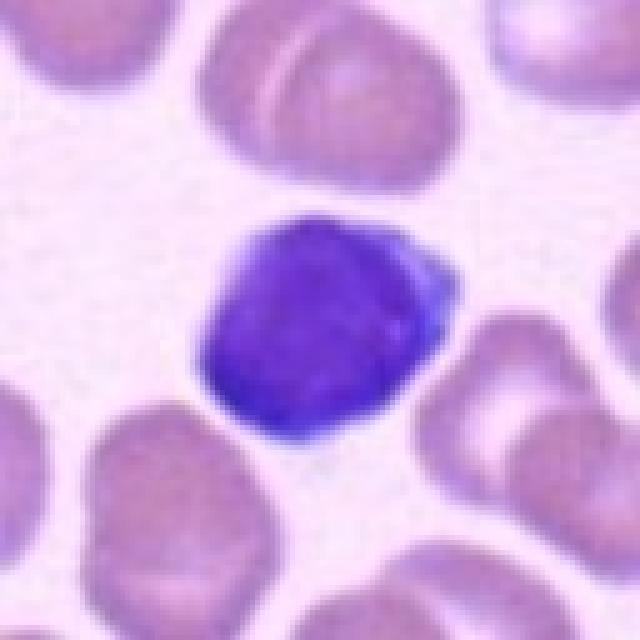lympho: (191, 203, 471, 448)
